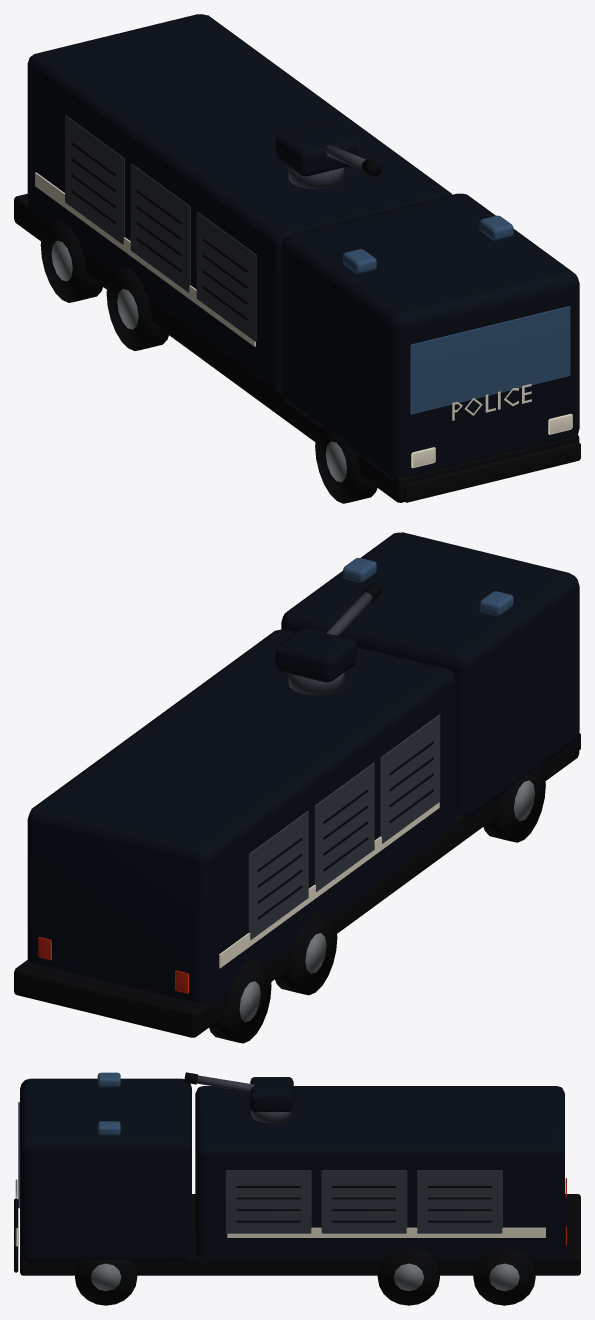
The model's file is water-cannon-truck.glb.
3 renders of one model, top to bottom at view 1: azimuth 30°, elevation 25°; view 2: azimuth 150°, elevation 25°; view 3: azimuth 270°, elevation 25°, orthographic. The views are drawn at different scales.
Visible parts, largest first — view 1: vehicle-body, turret-yaw, nozzle-pitch; view 2: vehicle-body, turret-yaw, nozzle-pitch; view 3: vehicle-body, turret-yaw, nozzle-pitch.
Boxes of the visible parts, x1=… form: vehicle-body: x1=14, y1=14, x2=580, y2=503; turret-yaw: x1=275, y1=122, x2=356, y2=189; nozzle-pitch: x1=326, y1=145, x2=382, y2=176; vehicle-body: x1=14, y1=532, x2=580, y2=1043; turret-yaw: x1=275, y1=628, x2=356, y2=695; nozzle-pitch: x1=326, y1=582, x2=382, y2=635; vehicle-body: x1=14, y1=1072, x2=580, y2=1305; turret-yaw: x1=250, y1=1077, x2=293, y2=1123; nozzle-pitch: x1=184, y1=1072, x2=254, y2=1091.
Size of the model in its own units: 2.5 by 3.46 by 8.89.
1 material, 1 textured.
